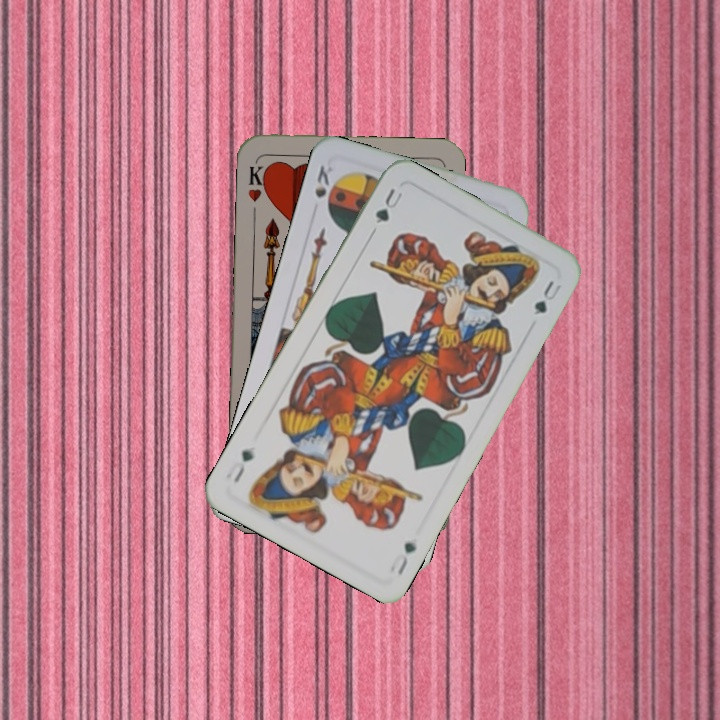GU: (371, 184, 406, 226), (393, 537, 419, 578)
HK: (244, 158, 271, 204)
SK: (310, 160, 336, 201)
